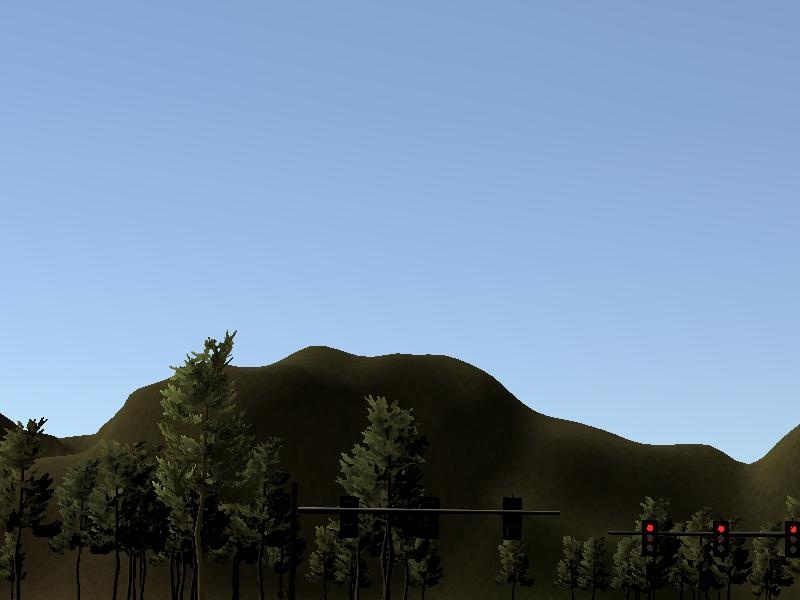traffic_light_red: (620, 520, 800, 562)
